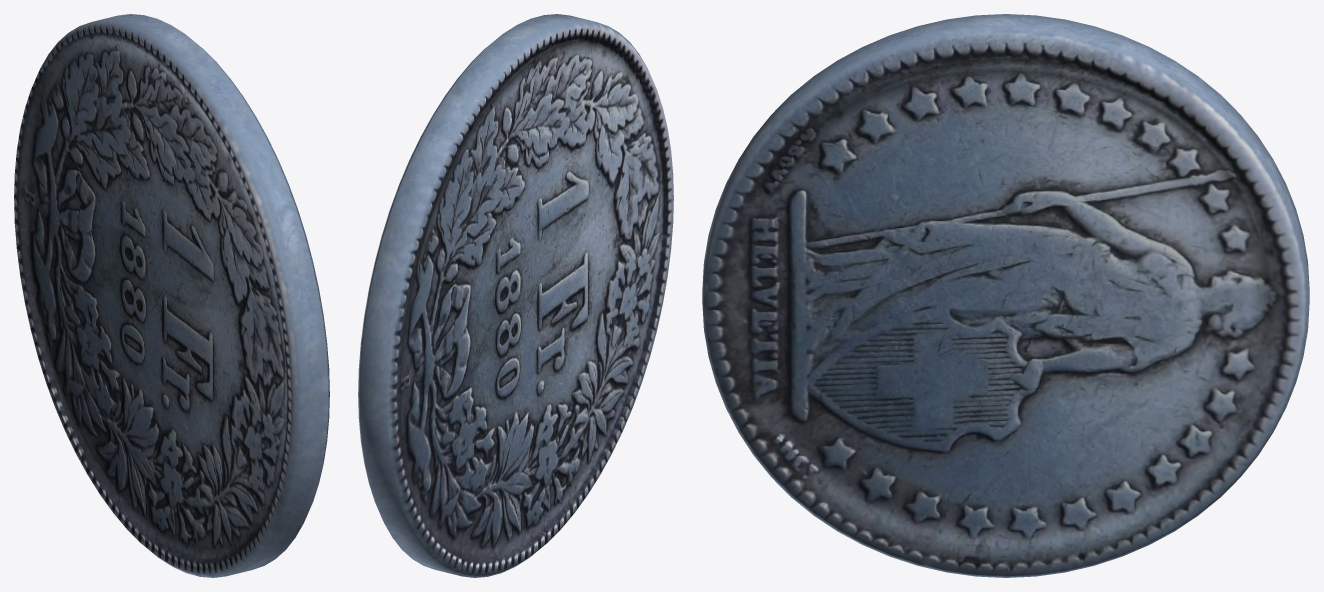
Rendered from 1_Frank.obj.
3 renders of one model, left to right at view 1: azimuth 30°, elevation 25°; view 2: azimuth 150°, elevation 25°; view 3: azimuth 270°, elevation 25°, orthographic. The views are drawn at different scales.
Visible parts, largest first — view 1: 1_Frank; view 2: 1_Frank; view 3: 1_Frank.
Part boxes in pixels (box(x1,y1,x2,y2)): 1_Frank: box(14, 14, 329, 577); 1_Frank: box(358, 14, 673, 577); 1_Frank: box(702, 14, 1309, 577).
Bounding box in the file's own units: 0.00152 × 0.021 × 0.021.
